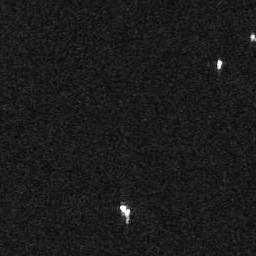ship: (119, 203, 132, 225), (216, 58, 223, 71)
